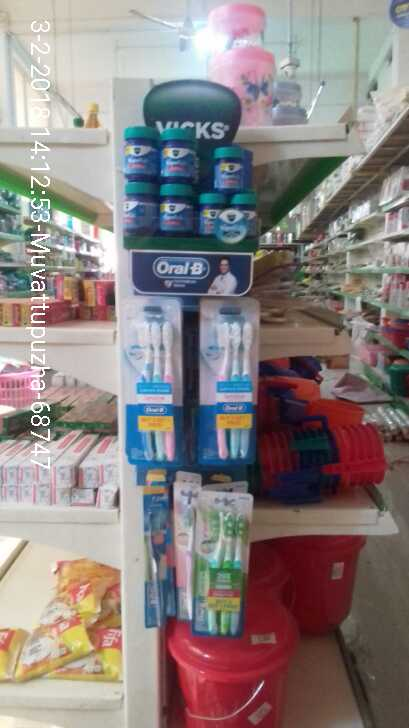pharmacy: (126, 298, 187, 466), (215, 299, 262, 461), (199, 498, 252, 638), (172, 503, 201, 619), (158, 124, 206, 190), (147, 501, 172, 623), (152, 183, 195, 235), (116, 189, 154, 246), (210, 142, 254, 191), (124, 126, 160, 182), (202, 197, 256, 234)
